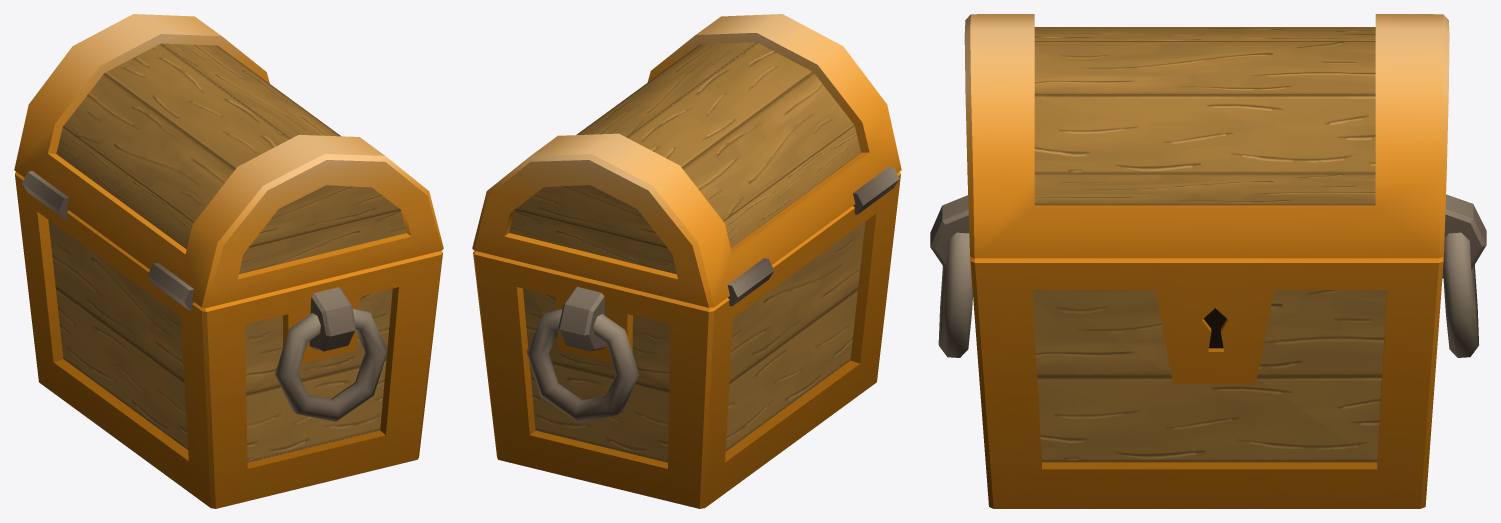
File: Chest_01.fbx
The picture shows the model from 3 angles, left to right: view 1: azimuth 30°, elevation 25°; view 2: azimuth 150°, elevation 25°; view 3: azimuth 270°, elevation 25°; orthographic projection. The views are drawn at different scales.
Parts seen in each view (by area): view 1: Chest, Lid; view 2: Chest, Lid; view 3: Chest, Lid.
Boxes of the visible parts, x1=… form: Chest: x1=15, y1=171, x2=442, y2=508; Lid: x1=14, y1=14, x2=443, y2=307; Chest: x1=473, y1=166, x2=900, y2=508; Lid: x1=472, y1=14, x2=901, y2=307; Chest: x1=930, y1=194, x2=1486, y2=508; Lid: x1=964, y1=14, x2=1449, y2=258.
Size of the model in its own units: 3.44 by 4.42 by 5.35.
